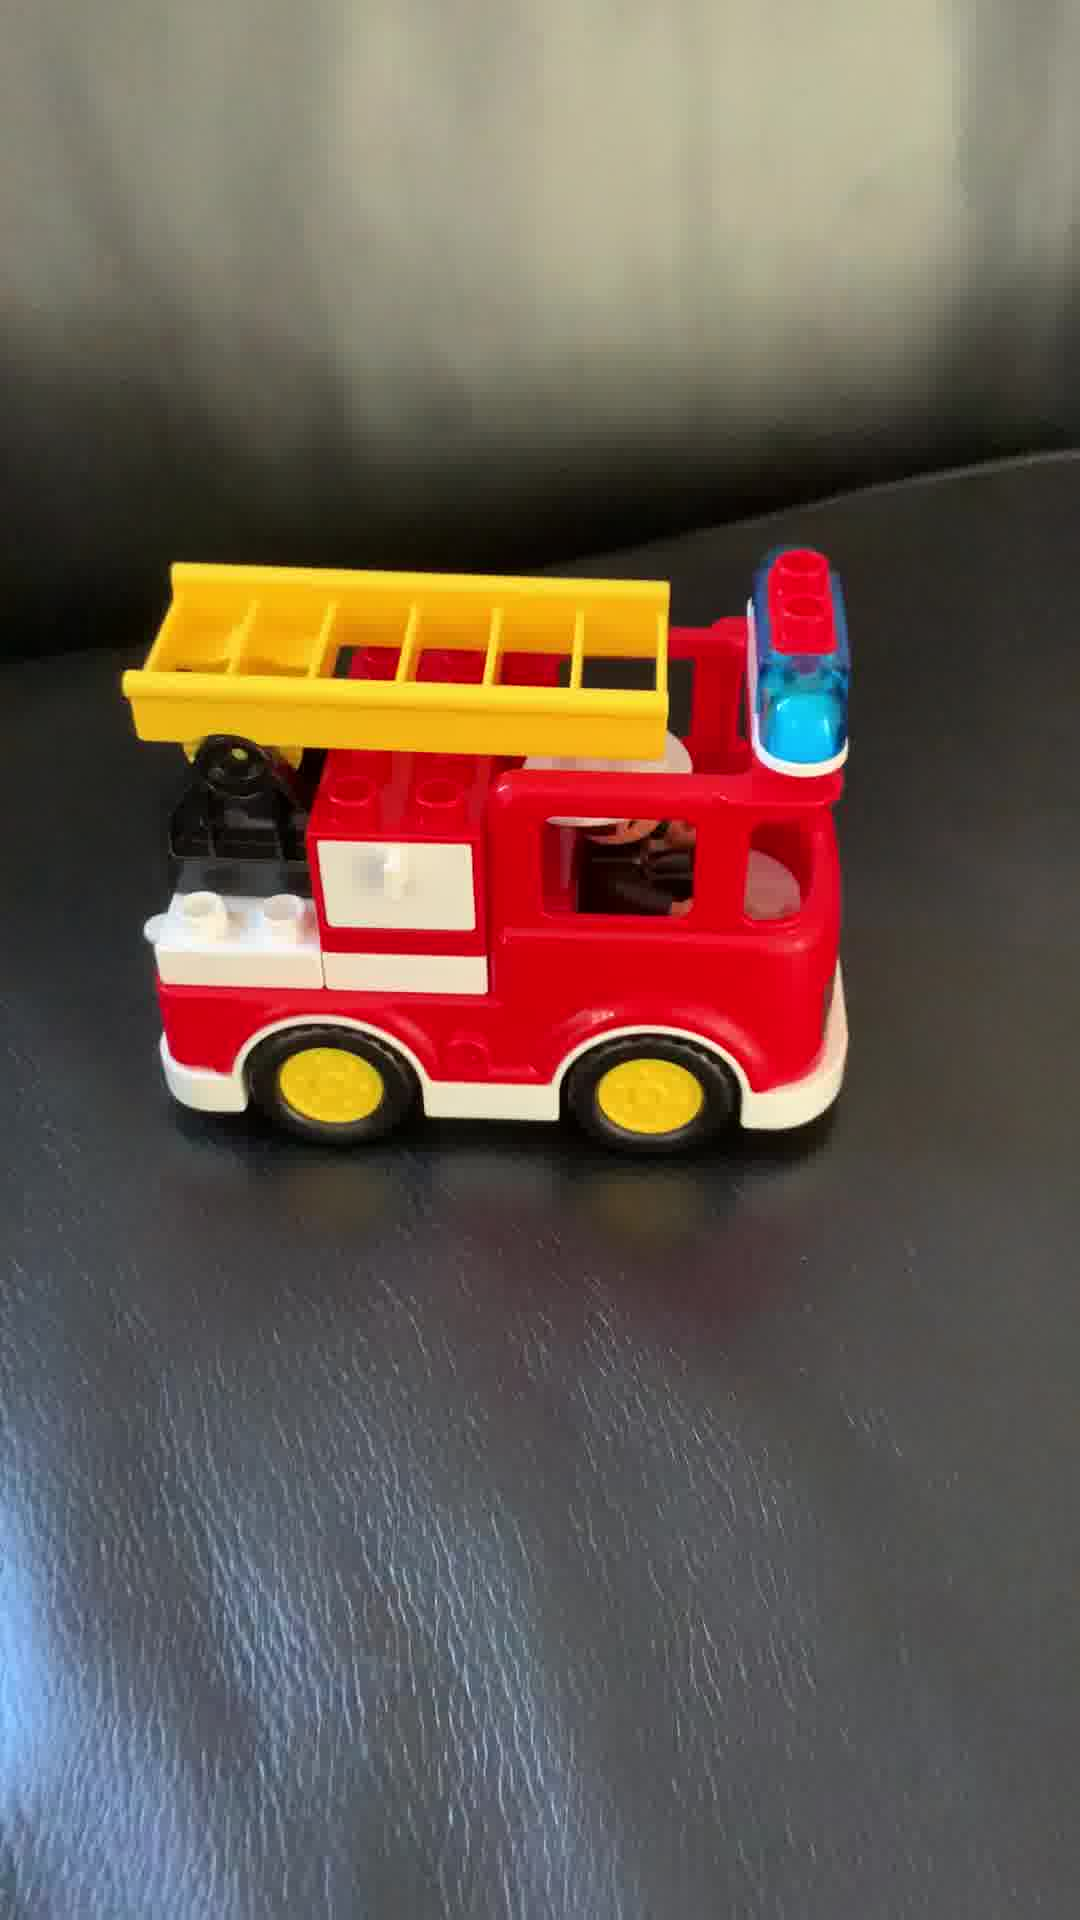lego fire truck: (115, 547, 861, 1153)
